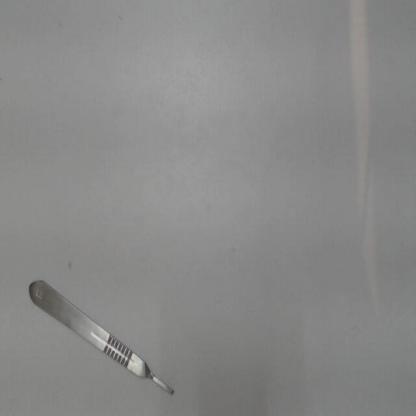No.3 BP Handle: (21, 269, 182, 407)
